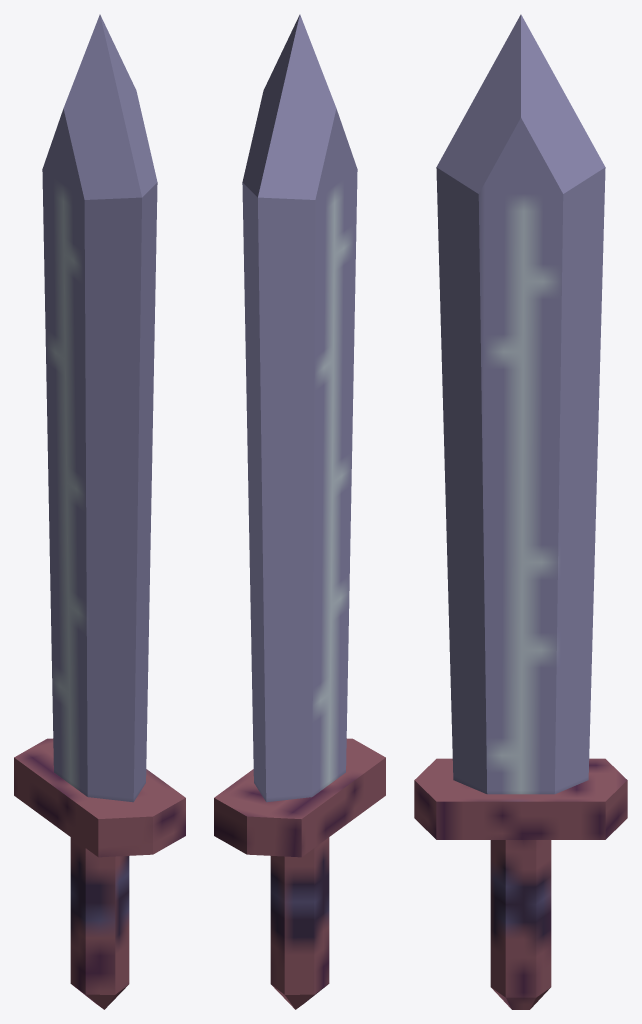
The model's file is sword.fbx.
3 views of the same model, side by side, from view 1: azimuth 30°, elevation 25°; view 2: azimuth 150°, elevation 25°; view 3: azimuth 270°, elevation 25° (orthographic).
Parts seen in each view (by area): view 1: Cube.025; view 2: Cube.025; view 3: Cube.025.
Boxes of the visible parts, x1=… form: Cube.025: x1=14, y1=14, x2=185, y2=1009; Cube.025: x1=214, y1=14, x2=385, y2=1009; Cube.025: x1=414, y1=14, x2=627, y2=1009.
Bounding box in the file's own units: 24 × 260 × 50.4.
